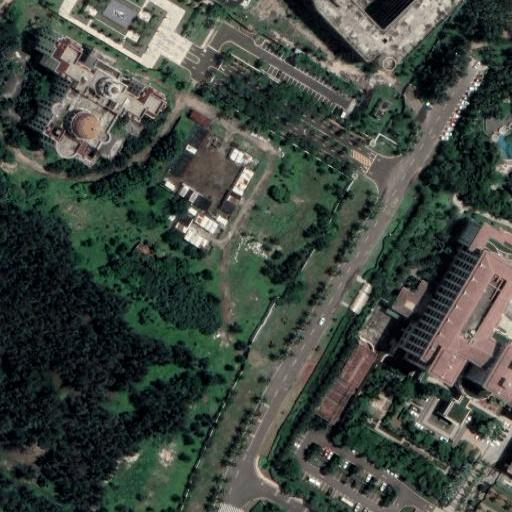building: (405, 241, 512, 381), (36, 27, 153, 113), (24, 74, 106, 154), (315, 344, 377, 426), (455, 213, 512, 265), (167, 200, 221, 251), (214, 160, 255, 216), (392, 281, 438, 323), (480, 345, 512, 404), (470, 333, 507, 375), (431, 390, 467, 426), (182, 104, 212, 130), (496, 439, 512, 480)
